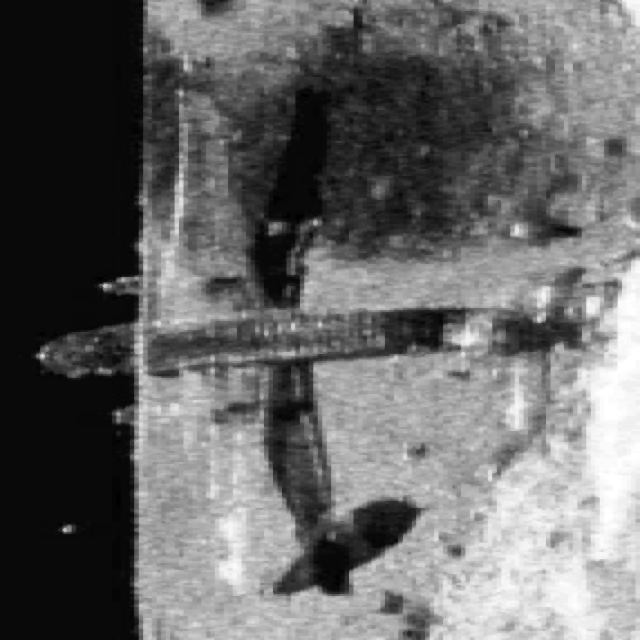Plane: (23, 71, 561, 604)
